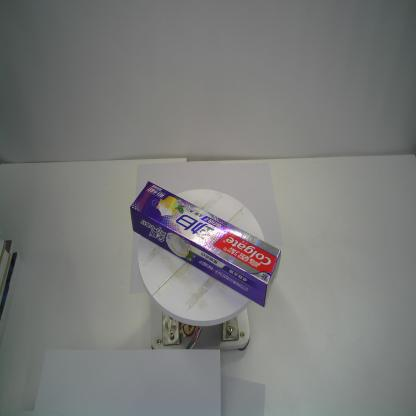Personal Hygiene: (130, 182, 281, 308)
